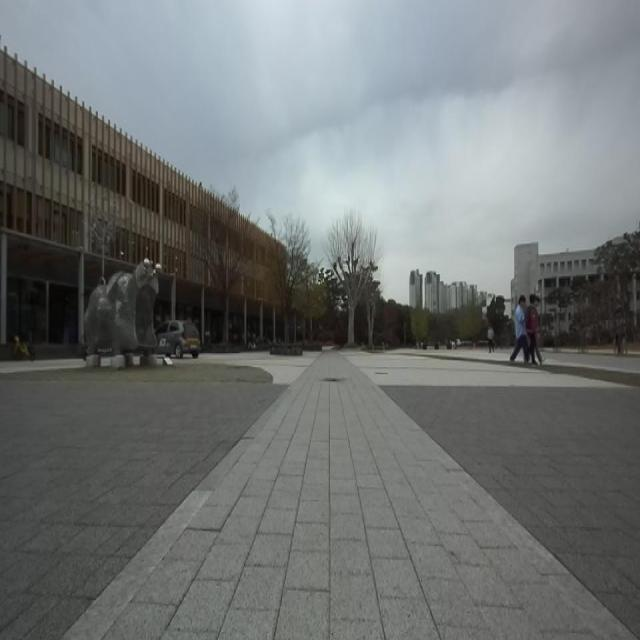sidewalk: (66, 354, 633, 639), (0, 380, 281, 639), (382, 388, 640, 638)
